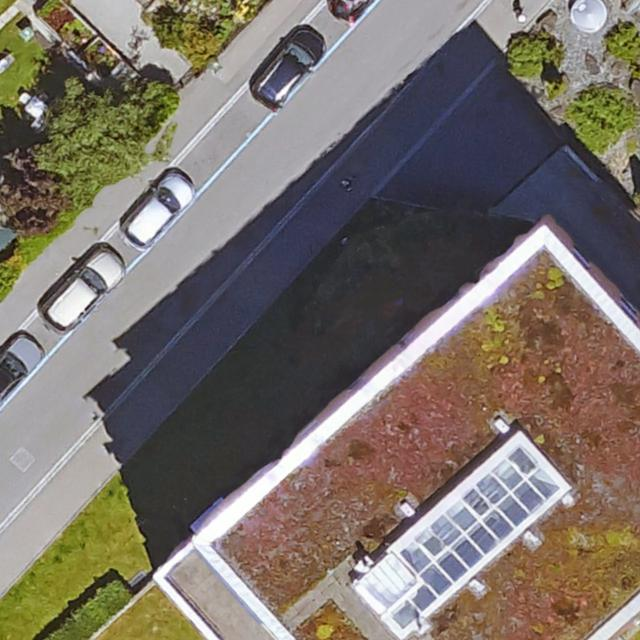tree: (39, 80, 152, 193), (0, 158, 69, 233)
